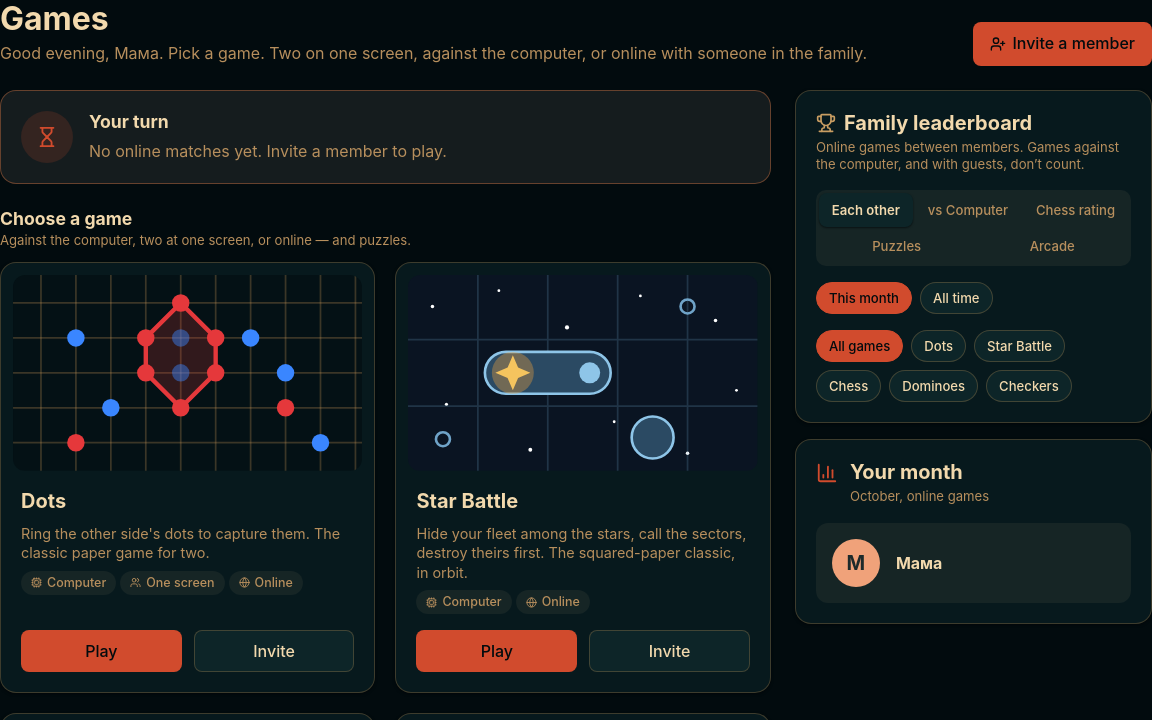
inviting someone outside the family › is not offered without a gateway to make links
The image size is (1152, 720).
Click the button "Invite a member".
click(1063, 44)  # box [973,22,1151,66]
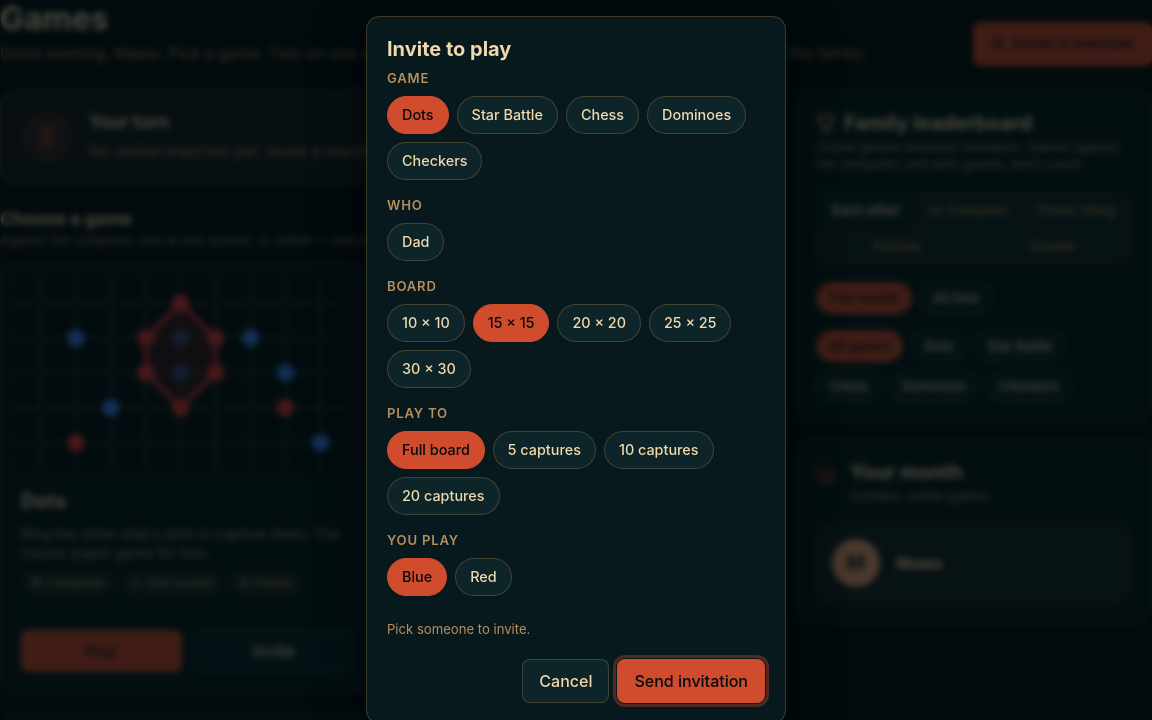
expect the button "Dad" is shown: met, box [387,223,444,261]
